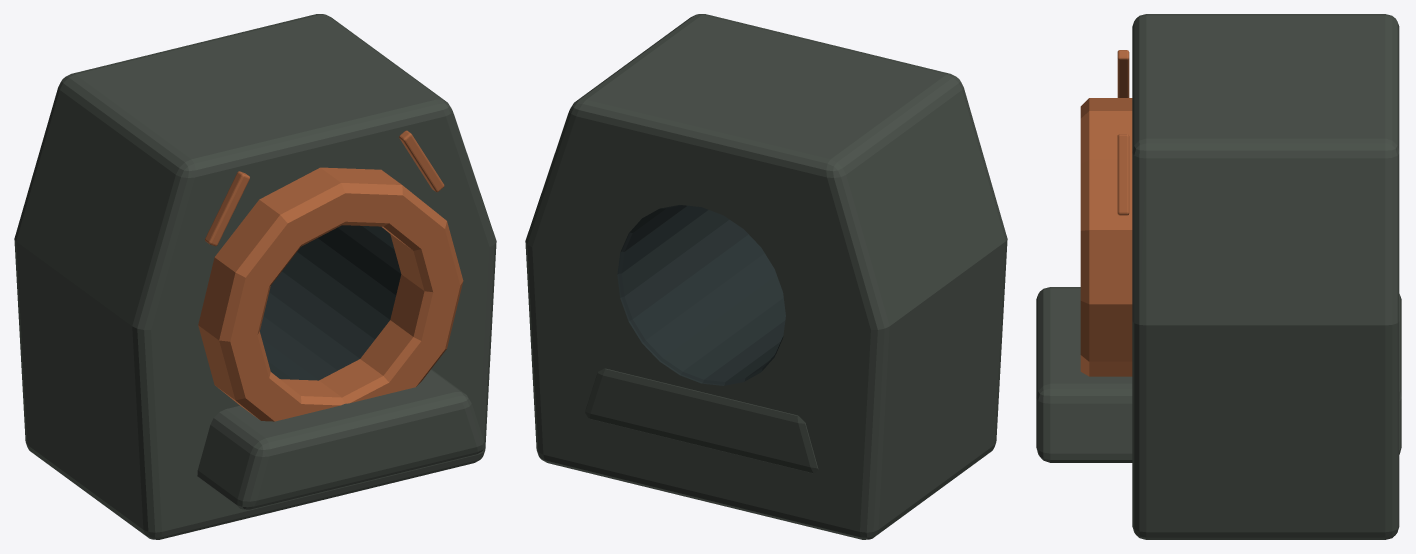
Rendered from LAVA_SPOUT.hi.glb.
3 views of the same model, side by side, from view 1: azimuth 30°, elevation 25°; view 2: azimuth 150°, elevation 25°; view 3: azimuth 270°, elevation 25° (orthographic). The views are drawn at different scales.
Visible parts, largest first — view 1: Body_Mesh; view 2: Body_Mesh; view 3: Body_Mesh.
Part boxes in pixels (x1,y1,x2,y2): Body_Mesh: (14,14,496,539); Body_Mesh: (525,14,1007,539); Body_Mesh: (1036,14,1401,539).
Size of the model in its own units: 0.92 by 0.9 by 0.78.
